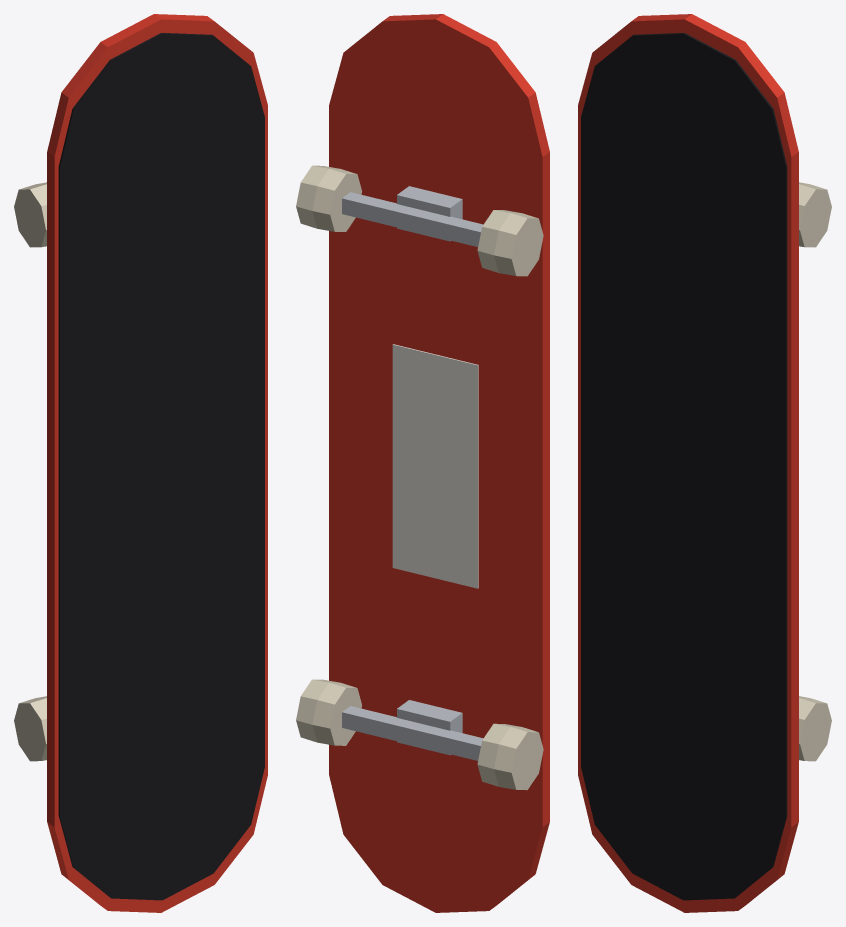
File: skateboard.glb
3 renders of one model, left to right at view 1: azimuth 30°, elevation 25°; view 2: azimuth 150°, elevation 25°; view 3: azimuth 330°, elevation 25°, orthographic.
Parts seen in each view (by area): view 1: skateboard; view 2: skateboard; view 3: skateboard.
Boxes of the visible parts, <box> form: skateboard: <box>14,14,267,912</box>; skateboard: <box>296,14,549,912</box>; skateboard: <box>578,14,831,912</box>.
Bounding box in the file's own units: 0.202 × 0.8 × 0.067.
